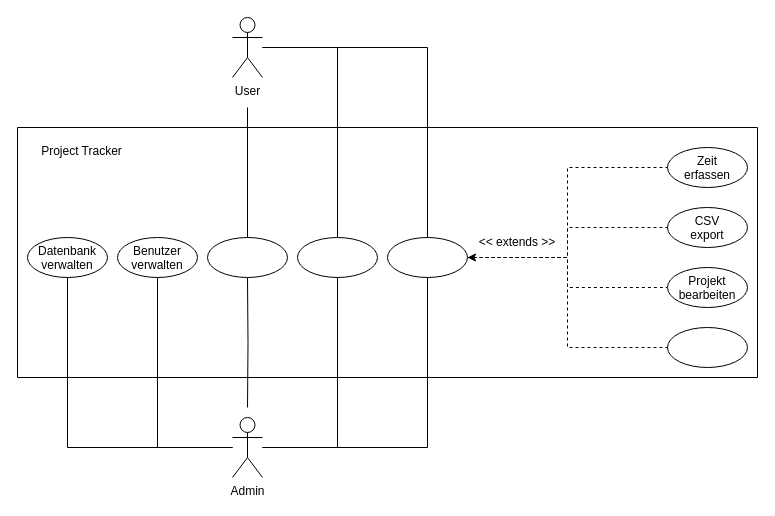
The diagram is 775 pixels wide and 516 high, and some of its shapes have lost their labels. Here are the shapes that lost their labels. From the top down, the box of each, then its label:
(206, 236, 288, 278): Datenbank login
(296, 236, 378, 278): Anwendung login
(386, 236, 468, 278): Projekte Anzeigen
(666, 326, 748, 368): Projekt anlegen
